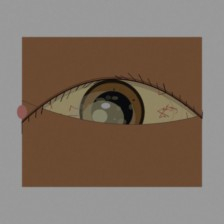corneal_ulcer: (70, 91, 137, 145)
